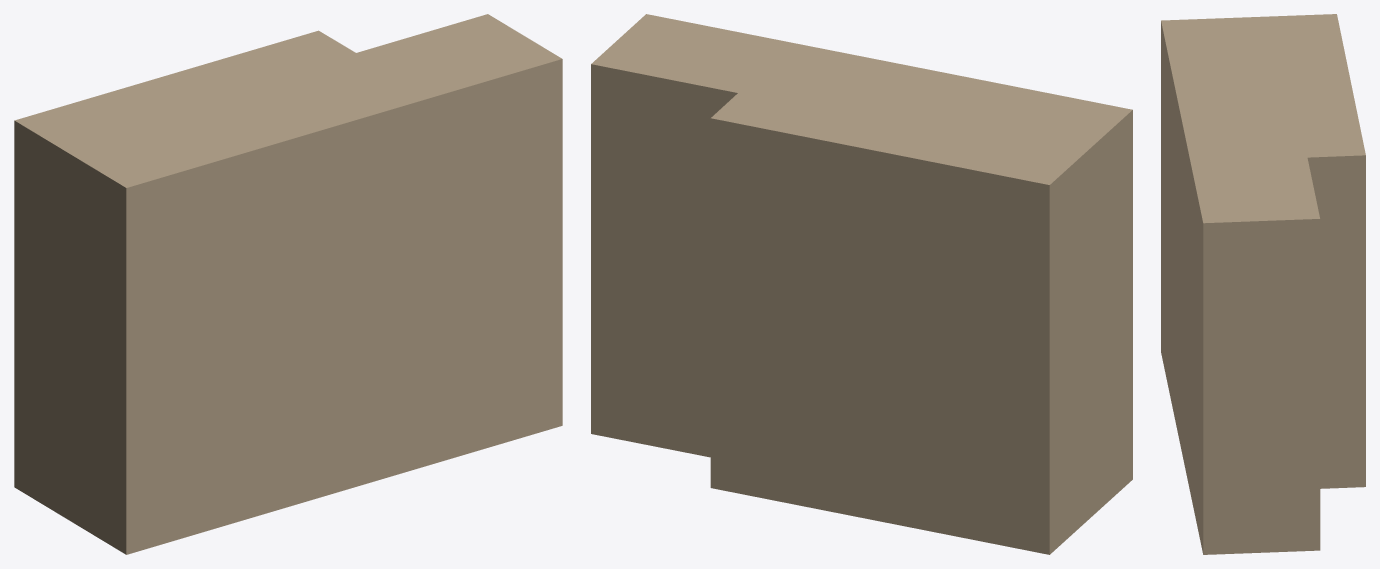
The model's file is bld_101572491.dae.
3 renders of one model, left to right at view 1: azimuth 30°, elevation 25°; view 2: azimuth 150°, elevation 25°; view 3: azimuth 270°, elevation 25°, orthographic. The views are drawn at different scales.
Visible parts, largest first — view 1: bld_101572491; view 2: bld_101572491; view 3: bld_101572491.
Boxes of the visible parts, x1,y1,x2,y2 form: bld_101572491: [14, 14, 562, 554]; bld_101572491: [591, 14, 1132, 554]; bld_101572491: [1161, 14, 1365, 554].
Bounding box in the file's own units: 10.82 × 4.48 × 8.
